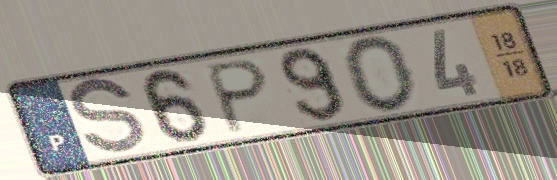4: (430, 26, 481, 98)
6: (139, 65, 214, 148)
9: (278, 44, 349, 127)
O: (341, 32, 419, 115)
P: (204, 57, 273, 138)
S: (68, 74, 149, 160)
